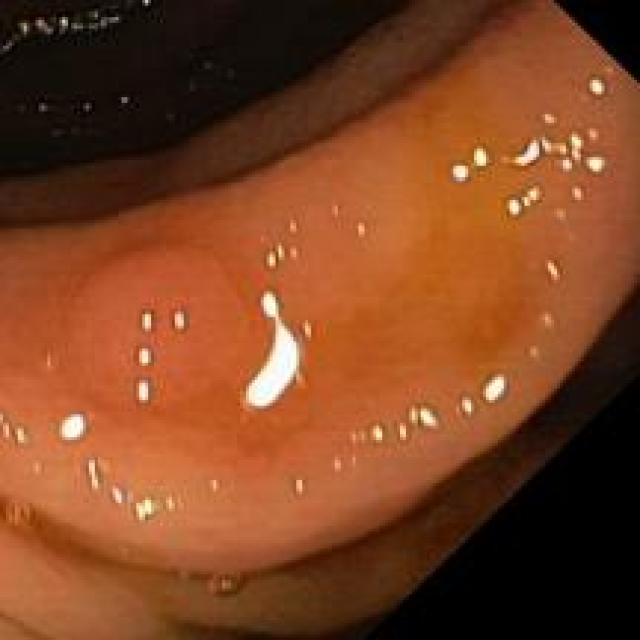Polyps: (70, 248, 246, 423)
